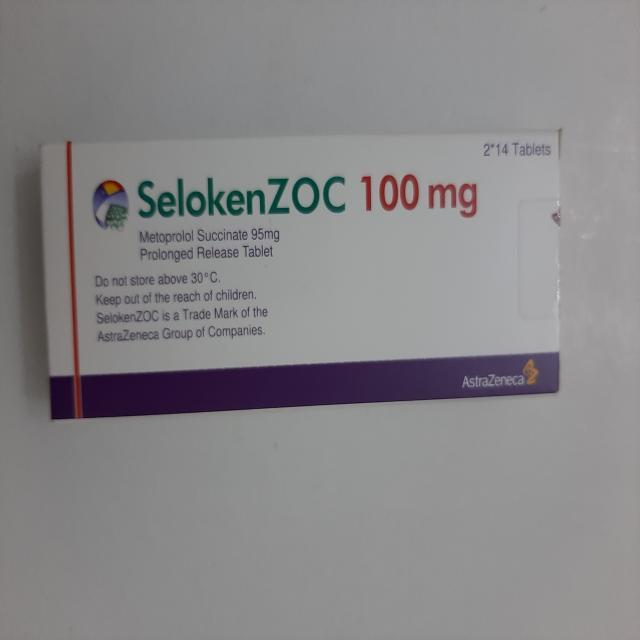Medicine Name: (134, 159, 358, 231)
